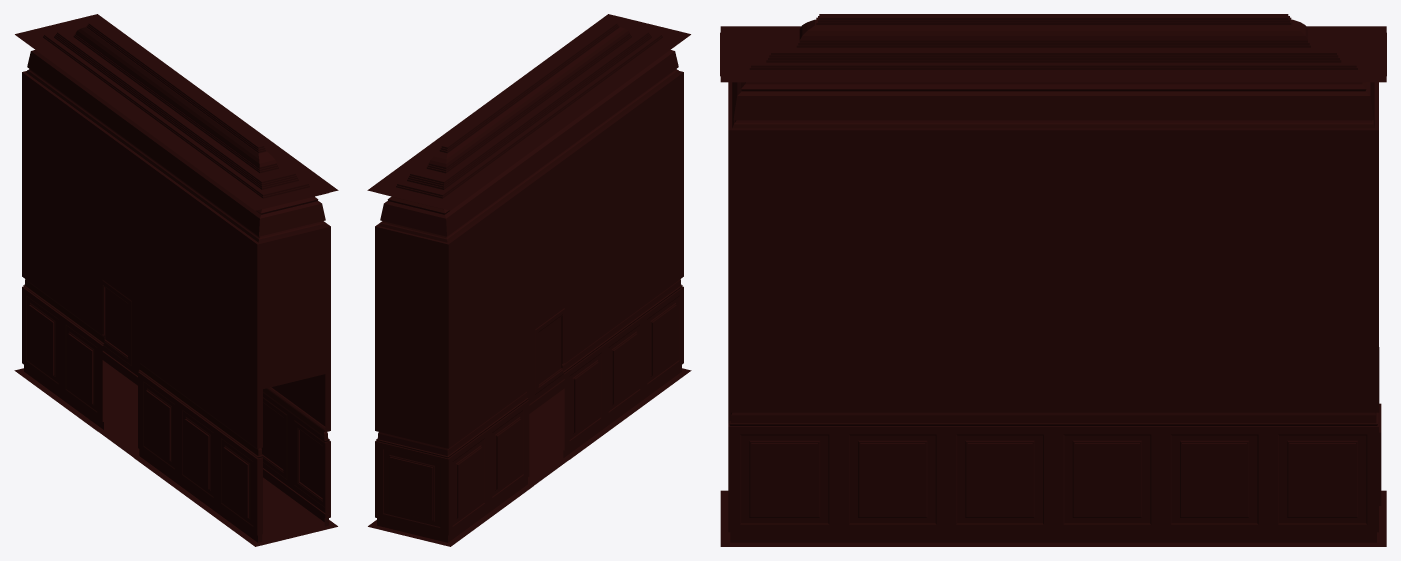
Rendered from 2door_12.FBX.
The picture shows the model from 3 angles, left to right: view 1: azimuth 30°, elevation 25°; view 2: azimuth 150°, elevation 25°; view 3: azimuth 270°, elevation 25°; orthographic projection. The views are drawn at different scales.
Visible parts, largest first — view 1: wall, ceiling, floor; view 2: wall, ceiling, floor; view 3: wall, ceiling, floor.
Boxes of the visible parts, x1=… form: wall: x1=14, y1=14, x2=338, y2=546; ceiling: x1=43, y1=22, x2=328, y2=208; floor: x1=15, y1=360, x2=337, y2=546; wall: x1=367, y1=14, x2=691, y2=546; ceiling: x1=383, y1=22, x2=662, y2=208; floor: x1=368, y1=368, x2=690, y2=546; wall: x1=720, y1=26, x2=1386, y2=542; ceiling: x1=720, y1=14, x2=1386, y2=76; floor: x1=720, y1=491, x2=1386, y2=546.
Bounding box in the file's own units: 45.97 × 230 × 192.
